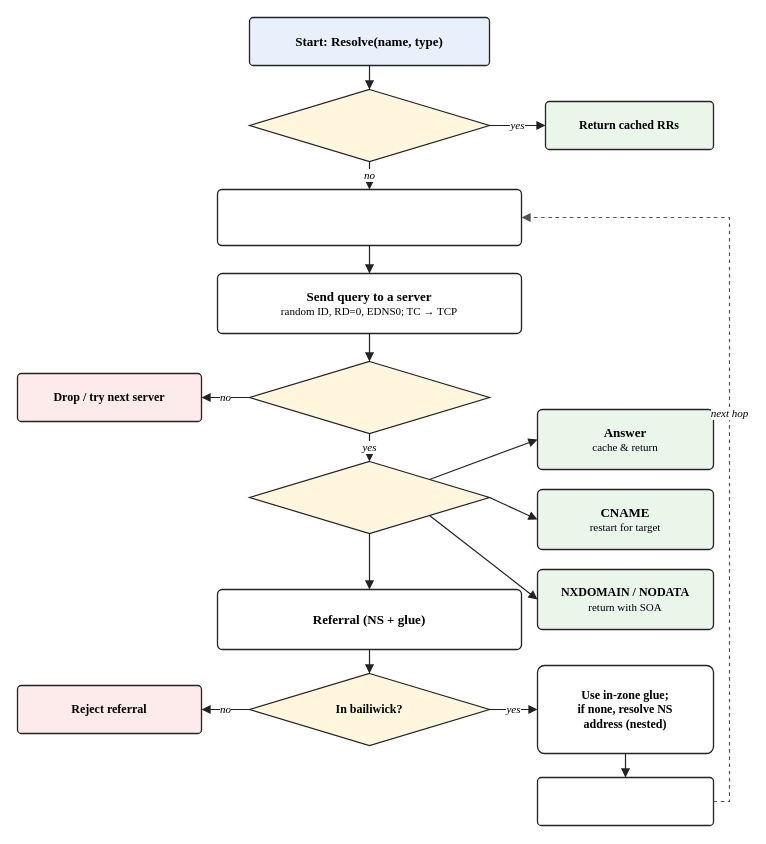
Image size: 766x844. Some labels were removed from this diagram. The shapes that lost their labels are listed below. From the top down, each one's box as (x1, y1, x2, y2) in pixels, then its label:
(248, 88, 490, 162): In answer cache?
(216, 188, 522, 246): Pick closest known zone (delegation cache, else root hints)
(248, 360, 490, 434): Reply valid? (ID + question)
(248, 460, 490, 534): Response type?
(536, 776, 714, 826): Cache zone → NS
